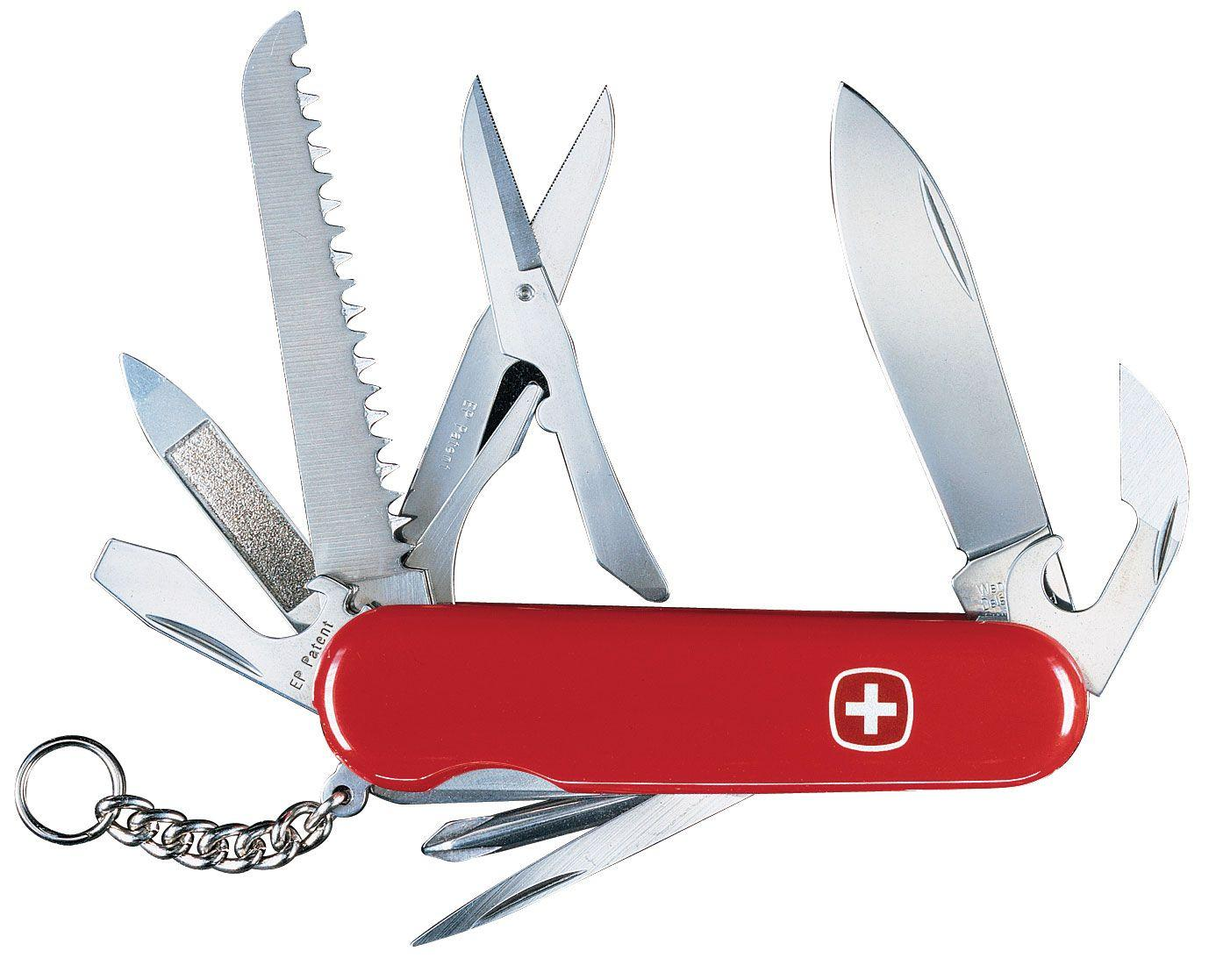Knife: (826, 80, 1188, 703), (238, 6, 431, 603), (119, 353, 318, 603)
